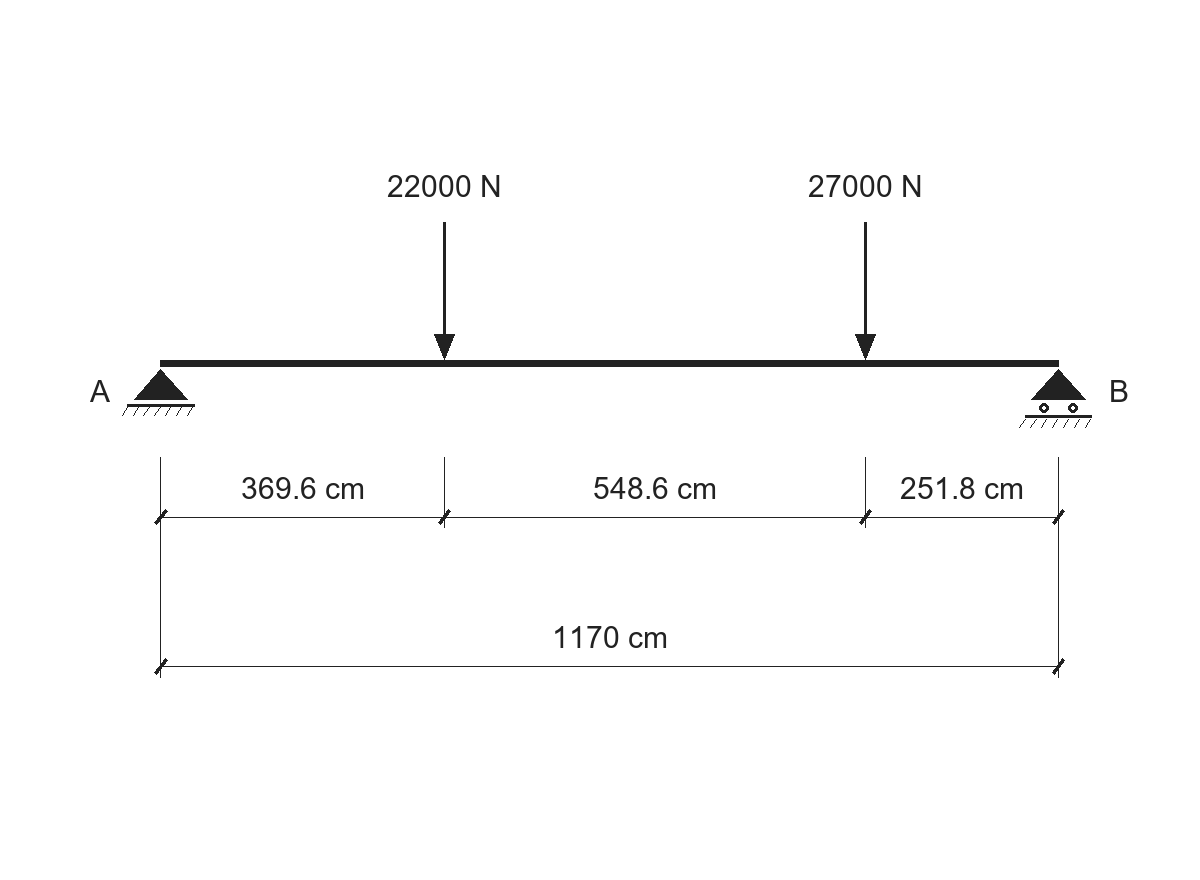pin_support: (122, 369, 195, 416)
point_load: (434, 222, 455, 360), (855, 222, 876, 360)
roller_support: (1019, 369, 1092, 428)
